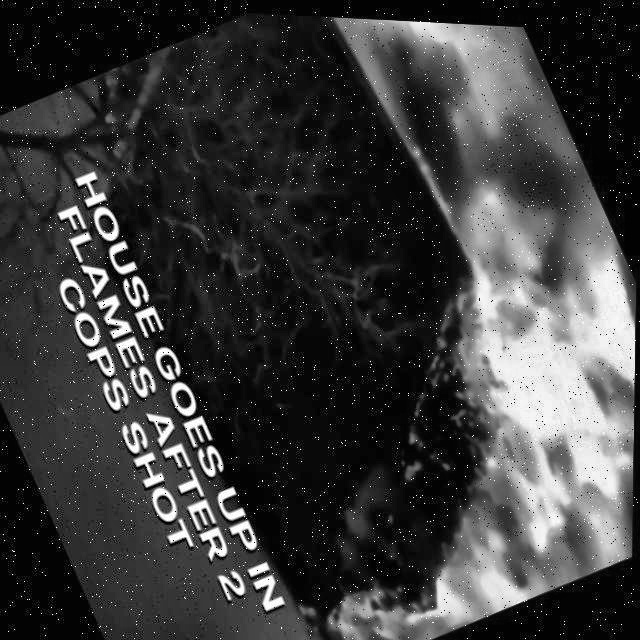Fire: (169, 99, 639, 640)
Smoke: (310, 13, 530, 203)
